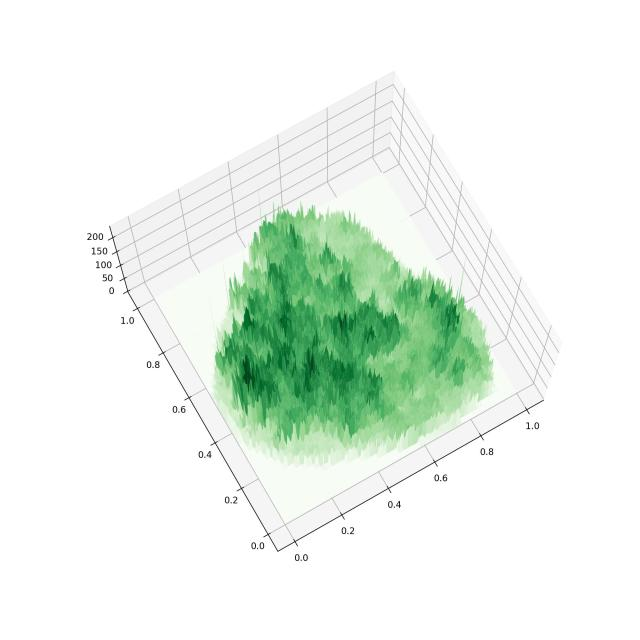fir: (57, 42, 584, 595)
